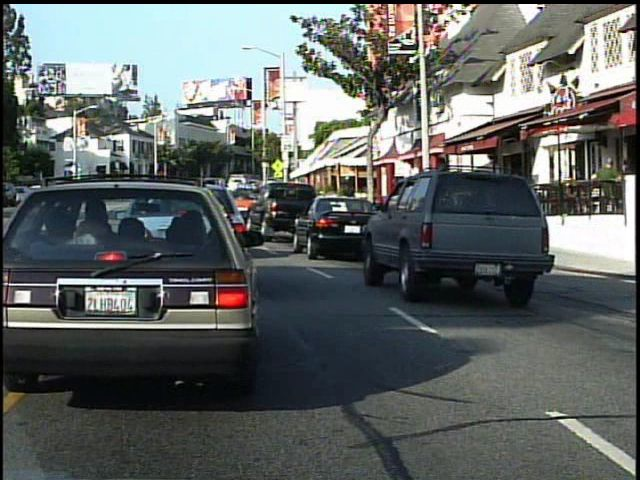person: (590, 151, 624, 234)
